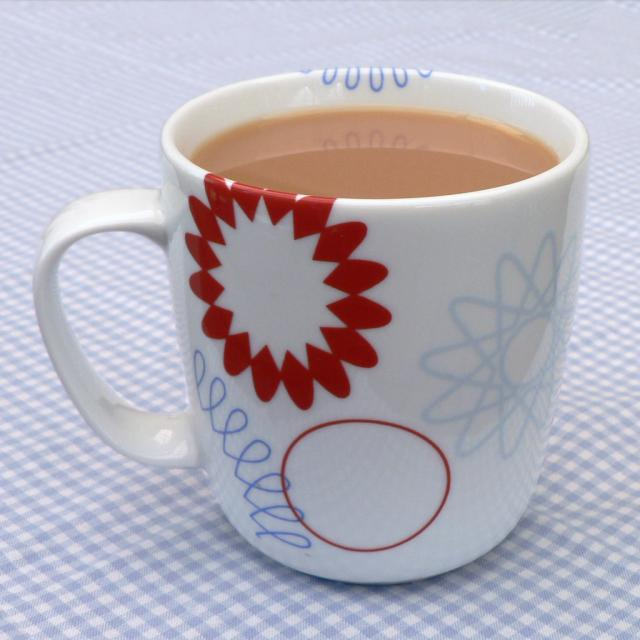Tea: (190, 104, 558, 201)
